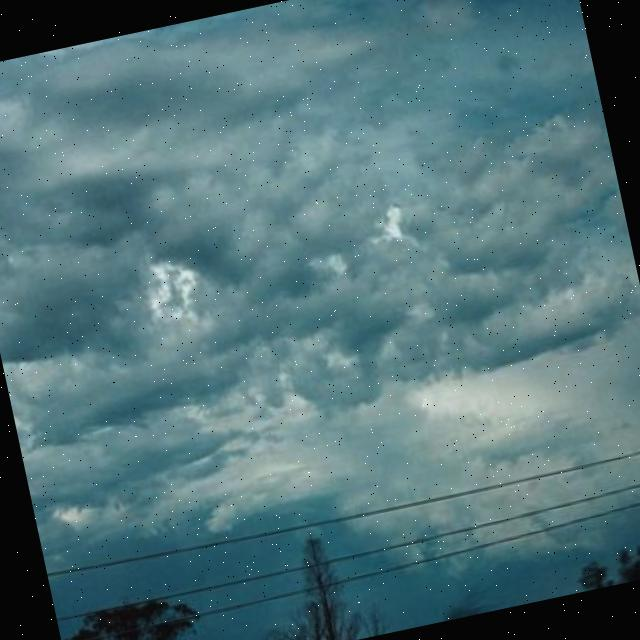Ac: (1, 1, 640, 535)
